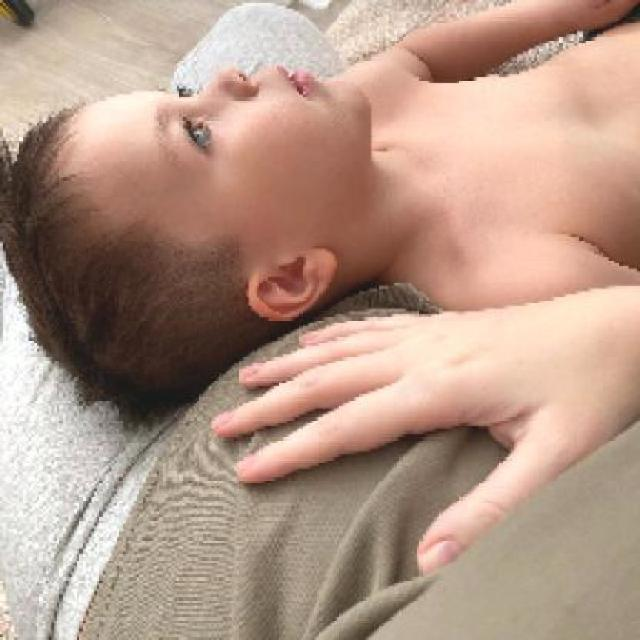child: (3, 2, 640, 424)
